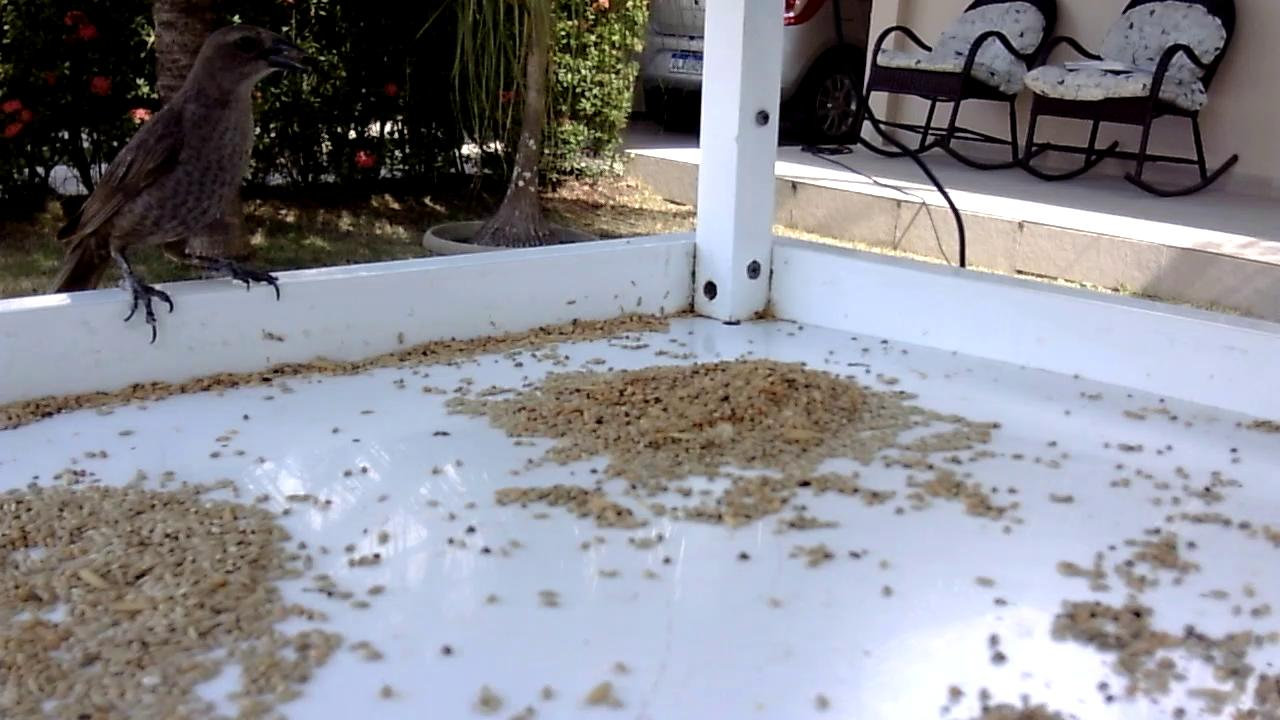chupim: (53, 23, 315, 348)
